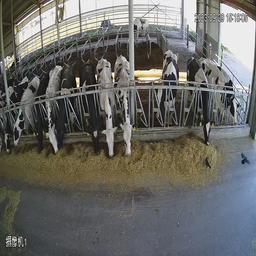cow: (186, 53, 216, 153), (155, 44, 181, 154), (75, 54, 101, 161), (113, 50, 137, 165), (96, 55, 119, 166), (53, 54, 74, 160), (200, 45, 230, 119), (13, 62, 37, 153), (42, 53, 60, 159), (32, 66, 48, 157), (222, 64, 239, 126), (133, 10, 148, 42)
